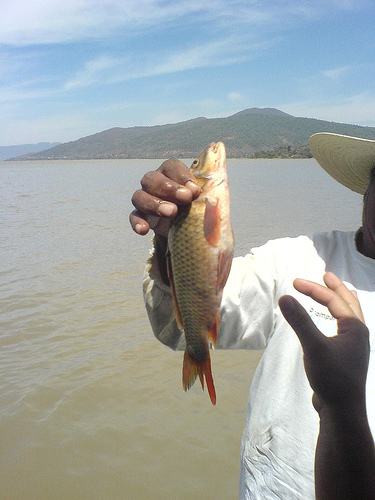fish: (168, 140, 236, 405)
